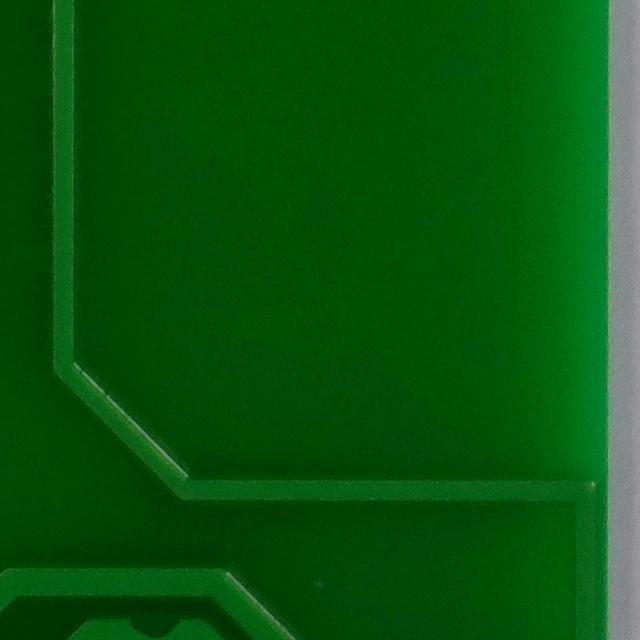mouse_bite: (114, 606, 194, 640)
